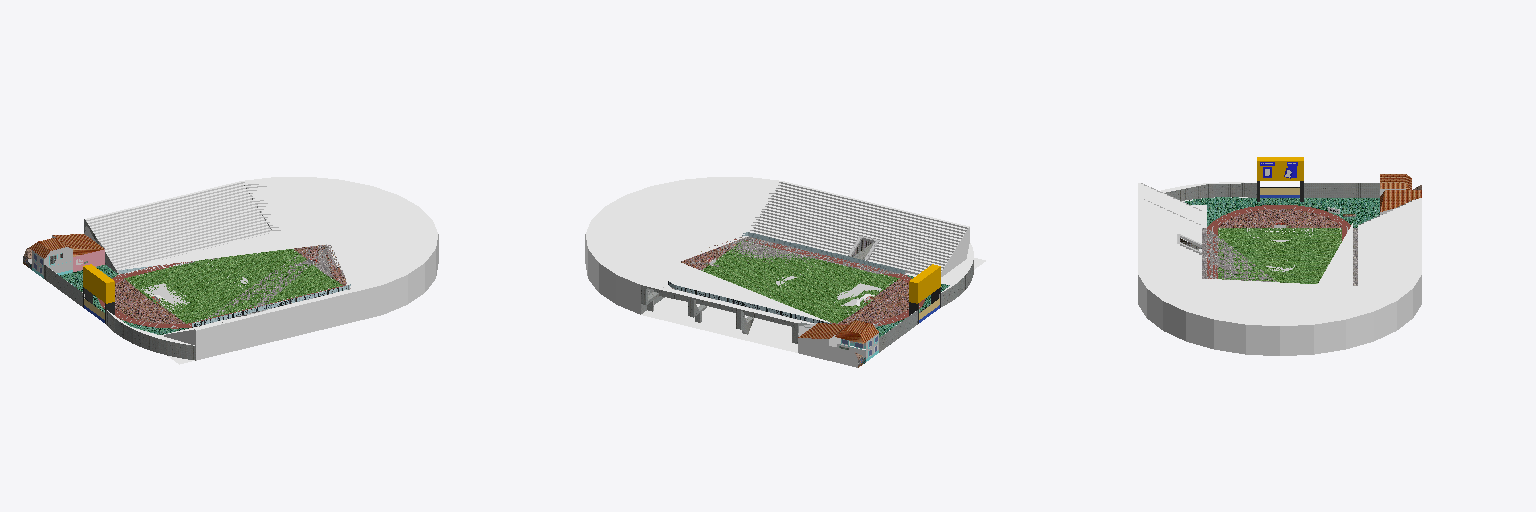
3 renders of one model, left to right at view 1: azimuth 30°, elevation 25°; view 2: azimuth 150°, elevation 25°; view 3: azimuth 270°, elevation 25°, orthographic.
Visible parts, largest first — view 1: Mesh43 skpD589_1 Model; view 2: Mesh43 skpD589_1 Model; view 3: Mesh43 skpD589_1 Model.
Part boxes in pixels (x1,y1,x2,y2): Mesh43 skpD589_1 Model: (23,177,438,364); Mesh43 skpD589_1 Model: (585,177,985,367); Mesh43 skpD589_1 Model: (1138,157,1421,355).
Size of the model in its own units: 15.45 by 1.86 by 11.64.
Materials: 43 (22 with a texture image).